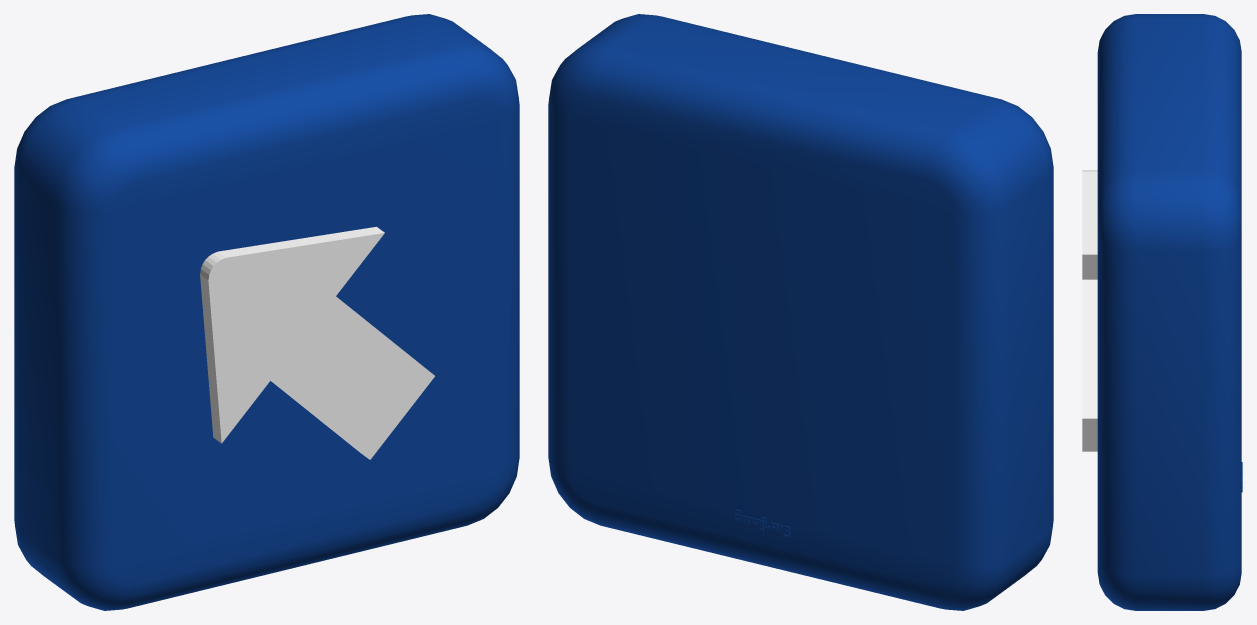
Rendered from up_left_arrow.fbx.
3 views of the same model, side by side, from view 1: azimuth 30°, elevation 25°; view 2: azimuth 150°, elevation 25°; view 3: azimuth 270°, elevation 25° (orthographic). The views are drawn at different scales.
Visible parts, largest first — view 1: Cube.6326; view 2: Cube.6326; view 3: Cube.6326.
Boxes of the visible parts, x1,y1,x2,y2 form: Cube.6326: (14,14,519,610); Cube.6326: (548,14,1053,610); Cube.6326: (1082,14,1242,610).
Bounding box in the file's own units: 220 × 220 × 73.37.
1 material, 1 textured.
